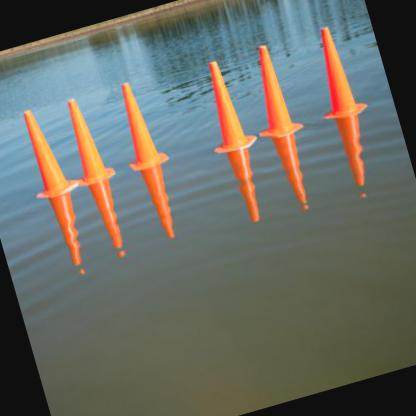cone: (300, 19, 372, 125), (190, 52, 261, 154), (238, 40, 306, 143), (15, 102, 80, 201), (108, 76, 172, 174), (58, 93, 118, 188)
